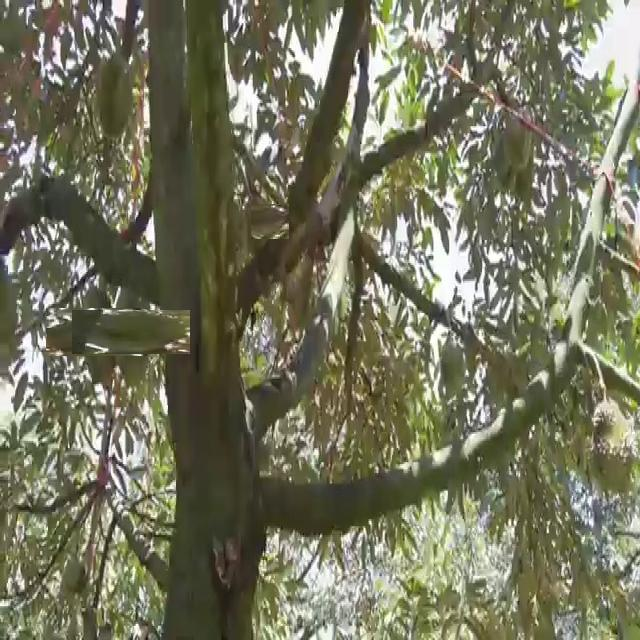durian: (91, 291, 172, 373), (587, 391, 639, 504), (59, 295, 134, 369), (89, 46, 134, 143), (234, 198, 283, 246), (438, 334, 470, 404), (223, 196, 251, 276), (503, 102, 534, 170)
